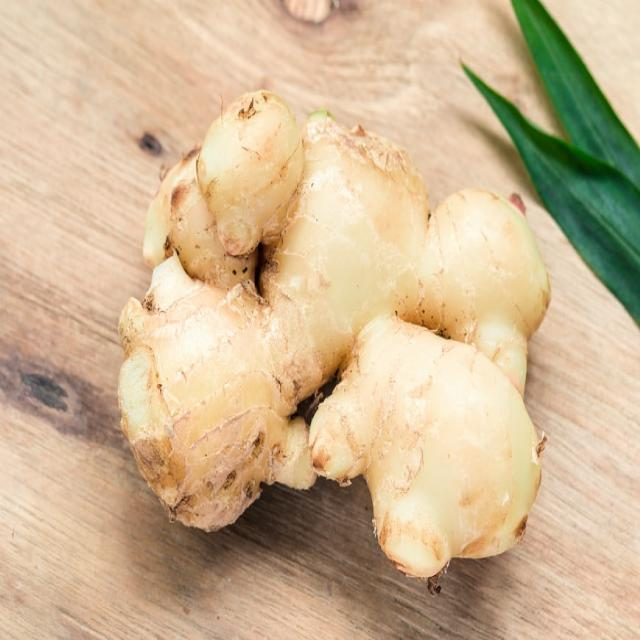ginger: (115, 106, 545, 586)
